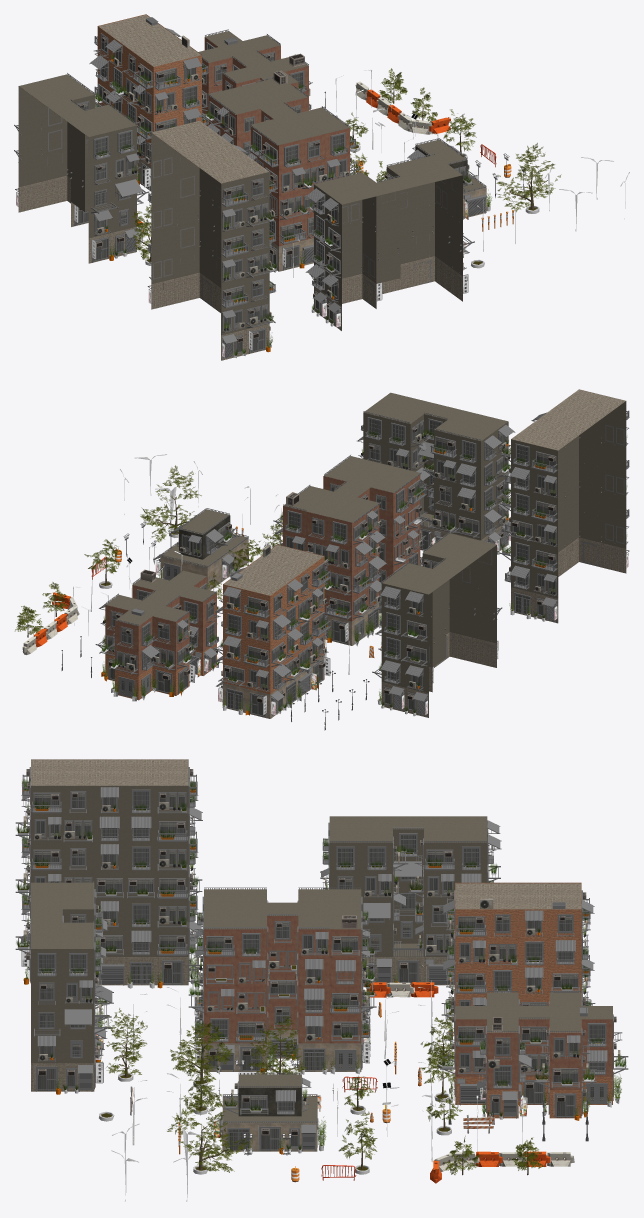
File: bld_nbh.glb
3 views of the same model, one above another, from view 1: azimuth 30°, elevation 25°; view 2: azimuth 150°, elevation 25°; view 3: azimuth 270°, elevation 25° (orthographic). The views are drawn at different scales.
Visible parts, largest first — view 1: nbh_01; view 2: nbh_01; view 3: nbh_01.
Part boxes in pixels (x1=…): nbh_01: x1=14, y1=14, x2=629, y2=360; nbh_01: x1=15, y1=389, x2=629, y2=730; nbh_01: x1=15, y1=759, x2=628, y2=1201.
Size of the model in its own units: 37.78 by 14.02 by 39.18.
Materials: 19 (18 with a texture image).
